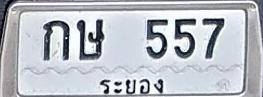5: (146, 18, 168, 59), (174, 18, 196, 58)
7: (202, 17, 224, 59)
A01: (42, 19, 70, 61)
A39: (76, 18, 104, 60)
RYG: (96, 75, 174, 97)
